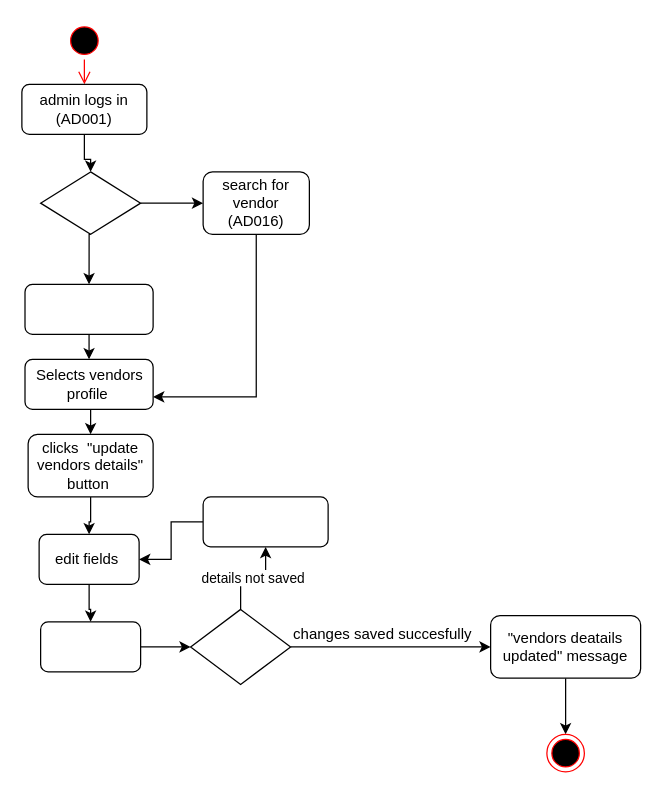
This 663x794 diagram has some shape labels left out. The centre of each missing label's shape, as x and y in pixels:
browse vendor: the point at 88,308
error message display: the point at 265,521
save changes: the point at 90,646
